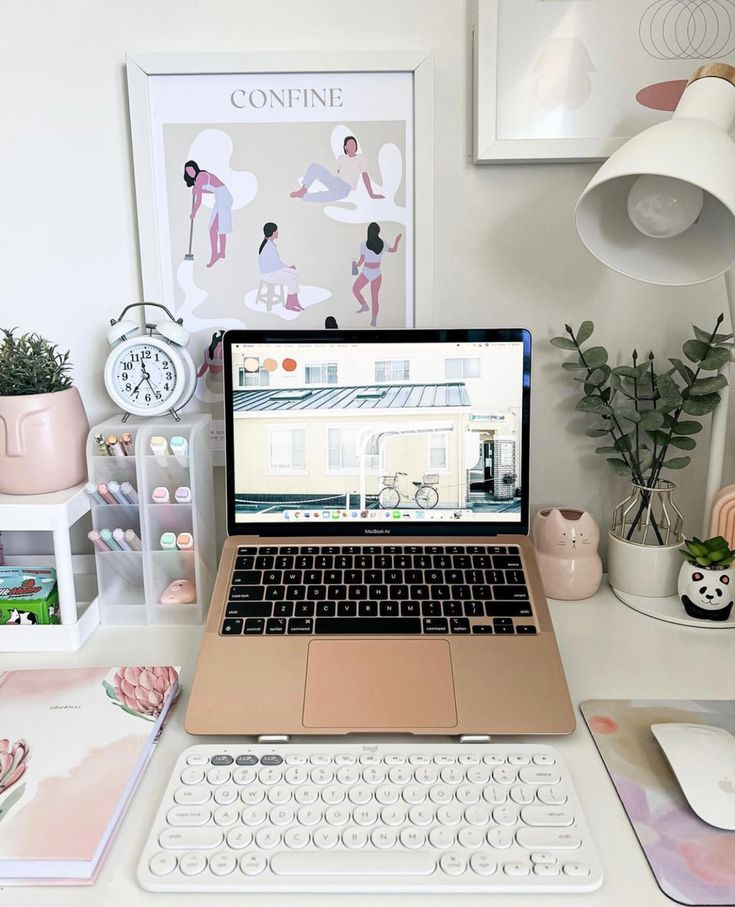not a gesture sign: (138, 412, 601, 895)
